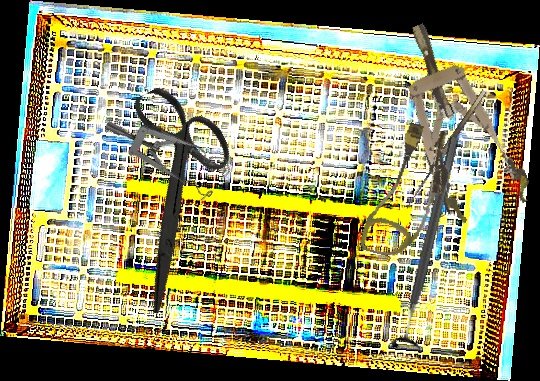Cannula: (358, 118, 459, 266)
Fixation Ring: (388, 133, 472, 354)
Hook Surgical: (403, 89, 494, 214)
Iris Scissors: (65, 71, 280, 314)
Speculum: (378, 8, 536, 231), (102, 79, 239, 220)
